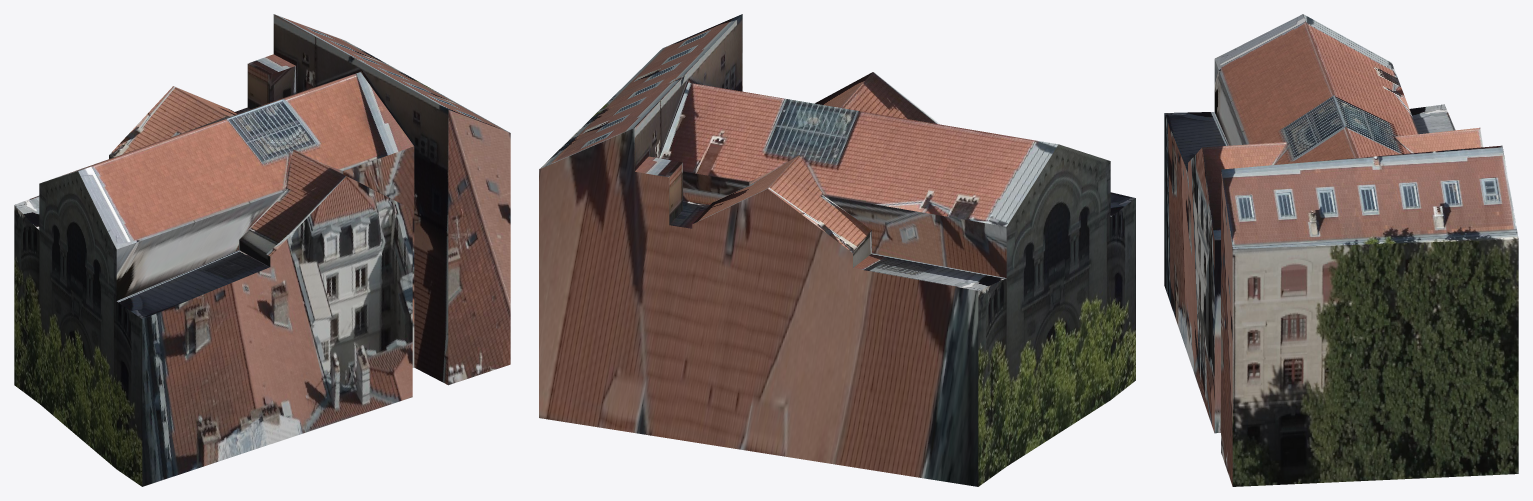
The picture shows the model from 3 angles, left to right: view 1: azimuth 30°, elevation 25°; view 2: azimuth 150°, elevation 25°; view 3: azimuth 270°, elevation 25°; orthographic projection. The views are drawn at different scales.
Visible parts, largest first — view 1: Z_UP; view 2: Z_UP; view 3: Z_UP.
Part boxes in pixels (box(x1,y1,x2,y2)): Z_UP: box(14, 14, 510, 486); Z_UP: box(539, 14, 1135, 486); Z_UP: box(1164, 14, 1518, 486).
Size of the model in its own units: 38.63 by 25.67 by 28.61.
Materials: 2 (1 with a texture image).
